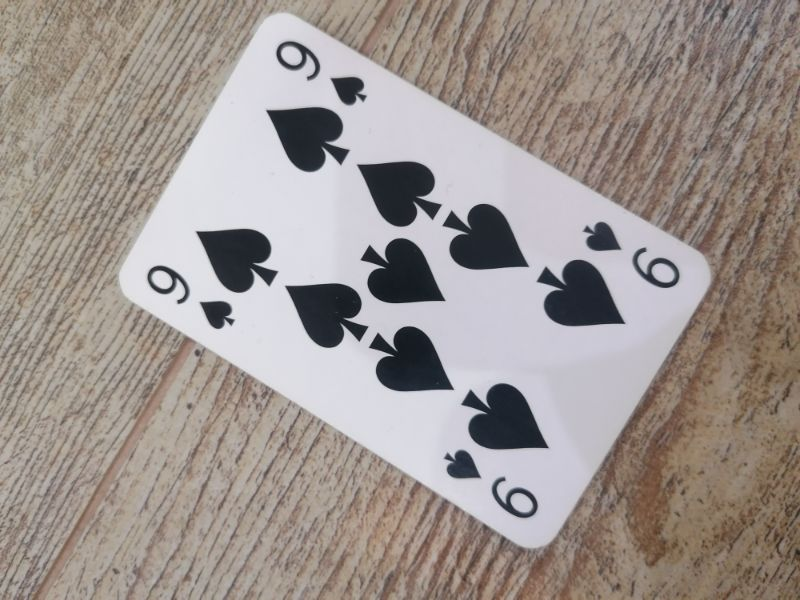9s: (582, 218, 685, 292), (440, 445, 541, 520), (274, 38, 371, 108), (145, 261, 238, 332)
